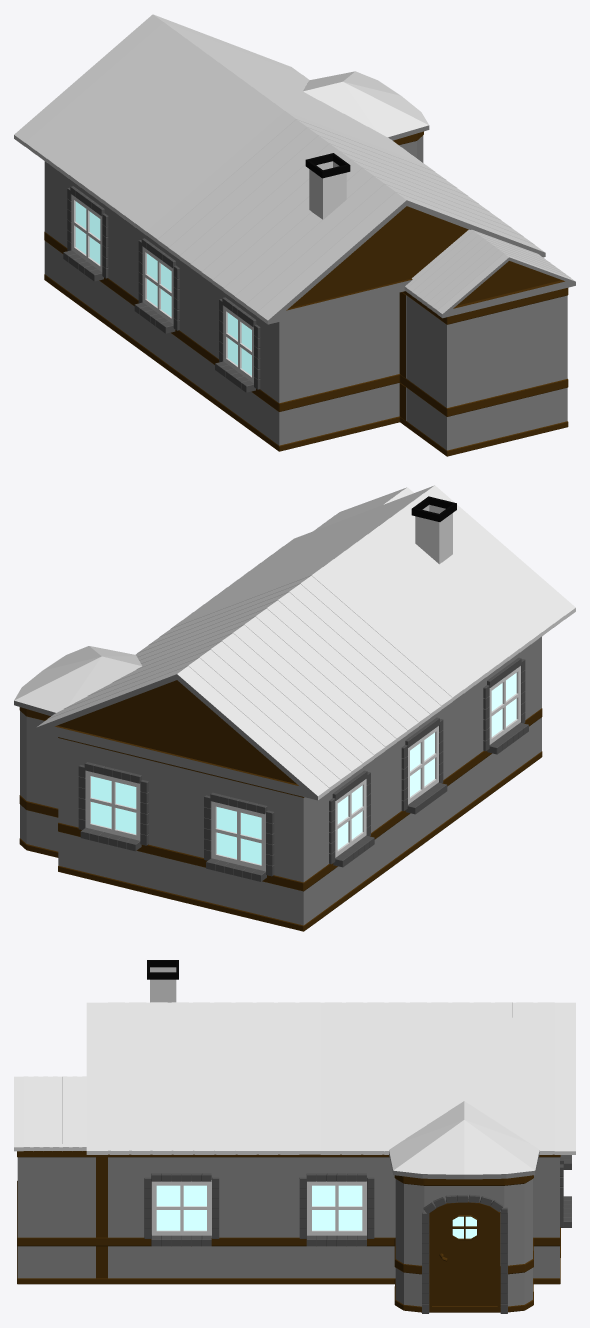
The model's file is farmhCT.fbx.
The picture shows the model from 3 angles, top to bottom: view 1: azimuth 30°, elevation 25°; view 2: azimuth 150°, elevation 25°; view 3: azimuth 270°, elevation 25°; orthographic projection. The views are drawn at different scales.
Parts seen in each view (by area): view 1: Farm; view 2: Farm; view 3: Farm.
Part boxes in pixels (box(x1,y1,x2,y2)): Farm: box(14, 14, 575, 456); Farm: box(14, 485, 575, 931); Farm: box(14, 960, 575, 1313).
Bounding box in the file's own units: 2222 × 1588 × 3364.
